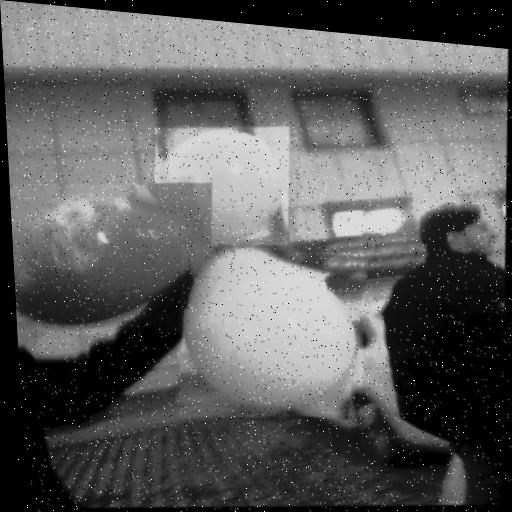balloon: (176, 234, 379, 441), (9, 168, 223, 357), (150, 120, 298, 268)
